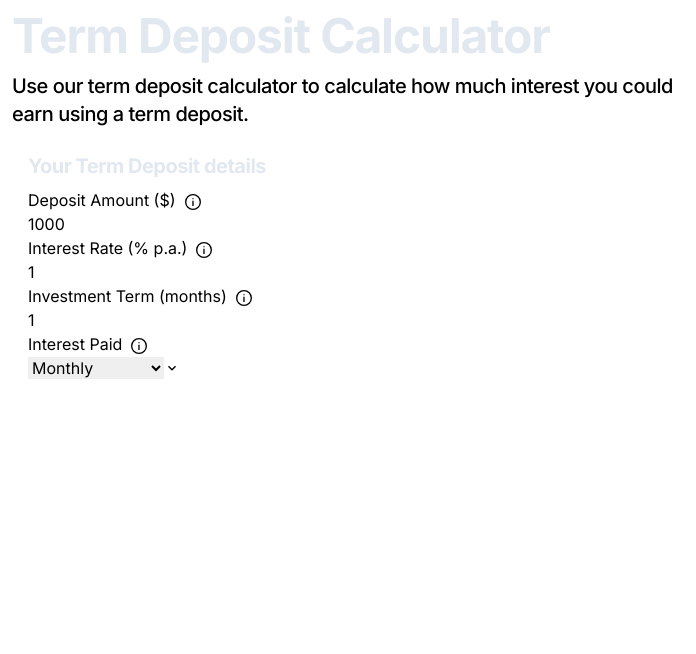
Term Deposit Calculator Component › should display an error message when Investment Term is blank
Replace the text in the number field with test id "depositAmountInput" with "10000": (354, 224) [28,212,679,236]
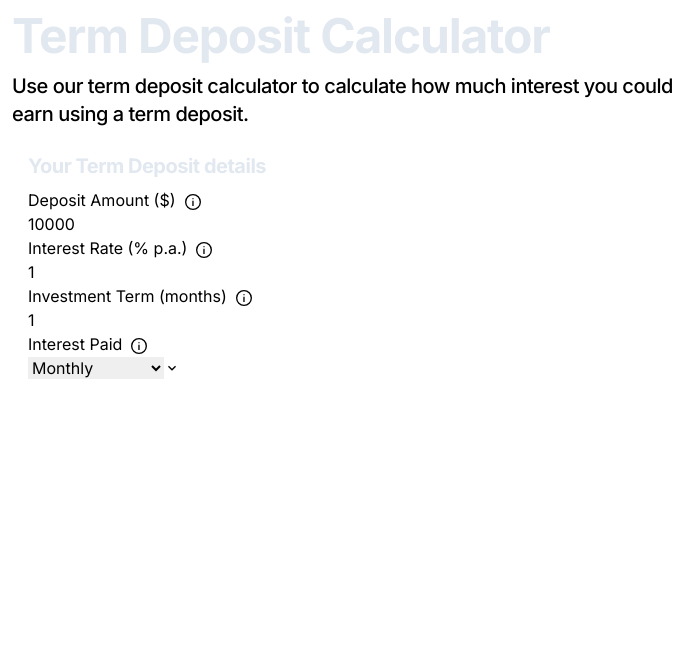
Replace the text in the number field with test id "interestRateInput" with "1.1": (354, 272) [28,260,679,284]
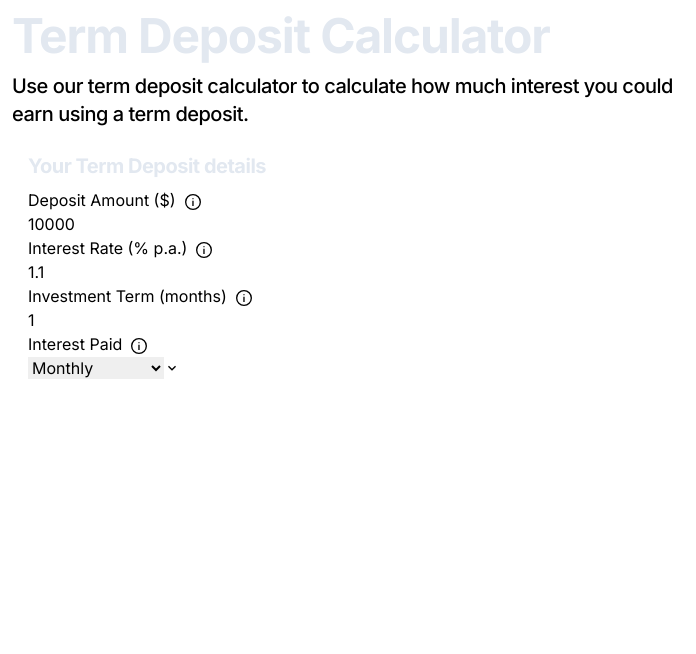
Clear the number field with test id "investmentTermInput": (354, 320) [28,308,679,332]
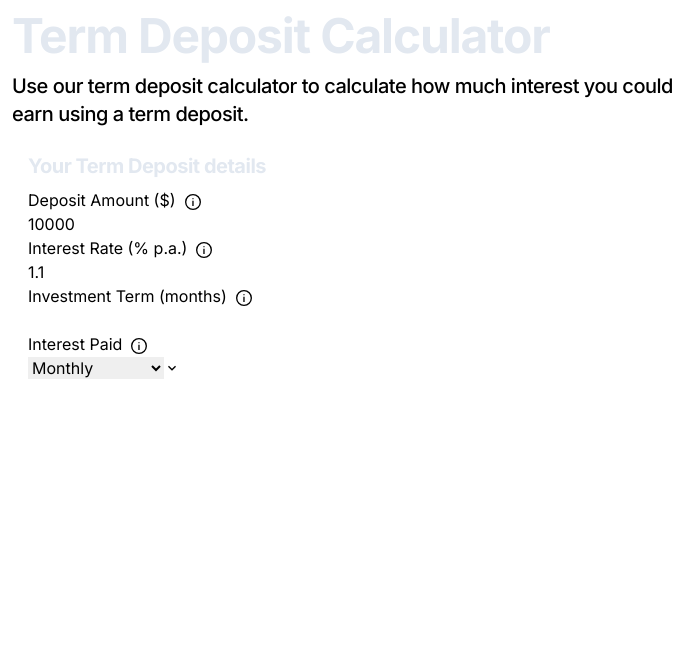
Select "At Maturity" in the dropdown with test id "interestPaidFrequencyInput": (96, 368) [28,357,164,379]
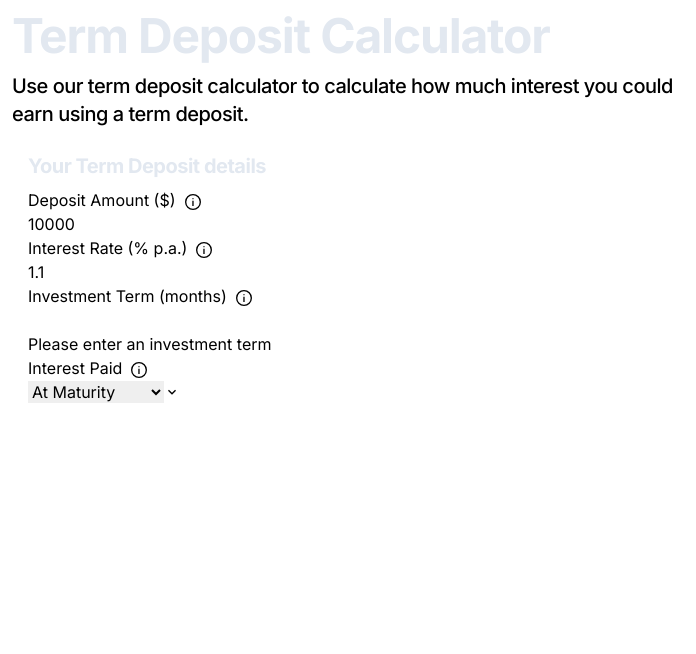
Result: the number of messages is 1 at [28,334,272,354]
